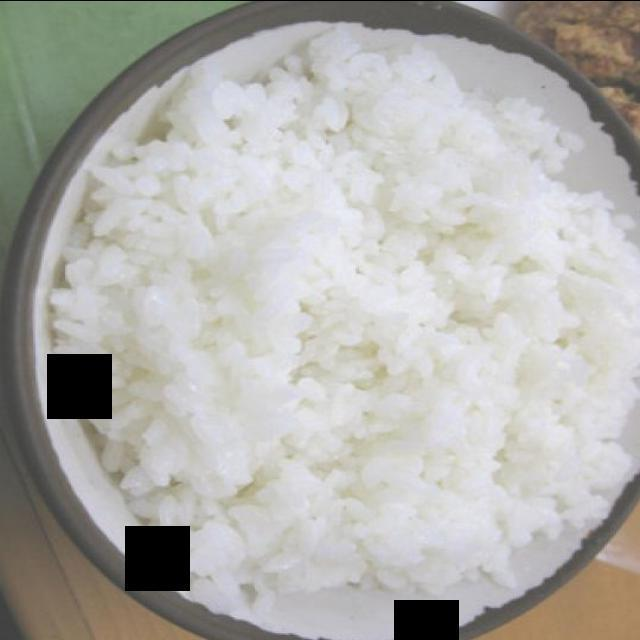Chicken -Chicken Inasal-: (62, 25, 639, 595)
